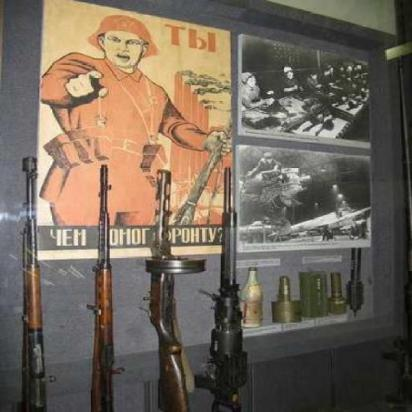Gun: (5, 145, 74, 412), (203, 159, 268, 411), (87, 149, 131, 410), (148, 163, 190, 411)
